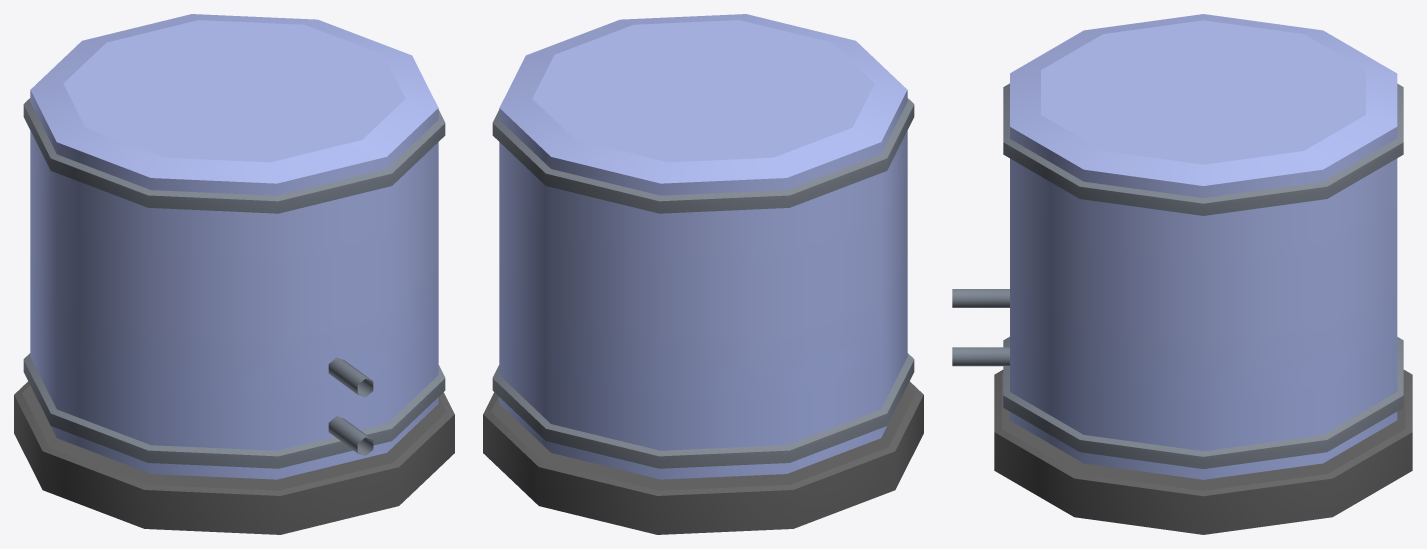
File: GasTank_2_E.fbx
3 views of the same model, side by side, from view 1: azimuth 30°, elevation 25°; view 2: azimuth 150°, elevation 25°; view 3: azimuth 270°, elevation 25° (orthographic).
Visible parts, largest first — view 1: GasTank_2_E; view 2: GasTank_2_E; view 3: GasTank_2_E.
Part boxes in pixels (<box>): GasTank_2_E: <box>14,14,454,534</box>; GasTank_2_E: <box>483,14,923,534</box>; GasTank_2_E: <box>952,14,1412,534</box>.
Size of the model in its own units: 900 by 790 by 942.
